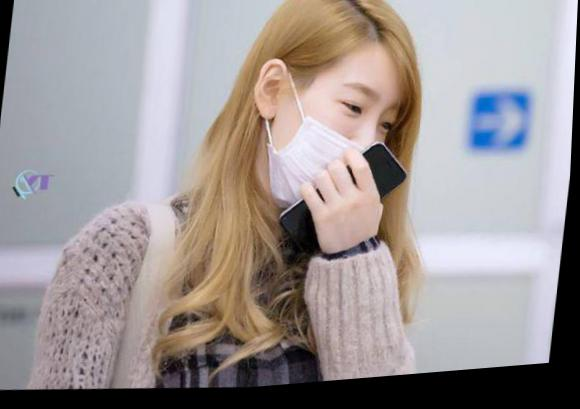WRONG: (265, 70, 405, 218)
